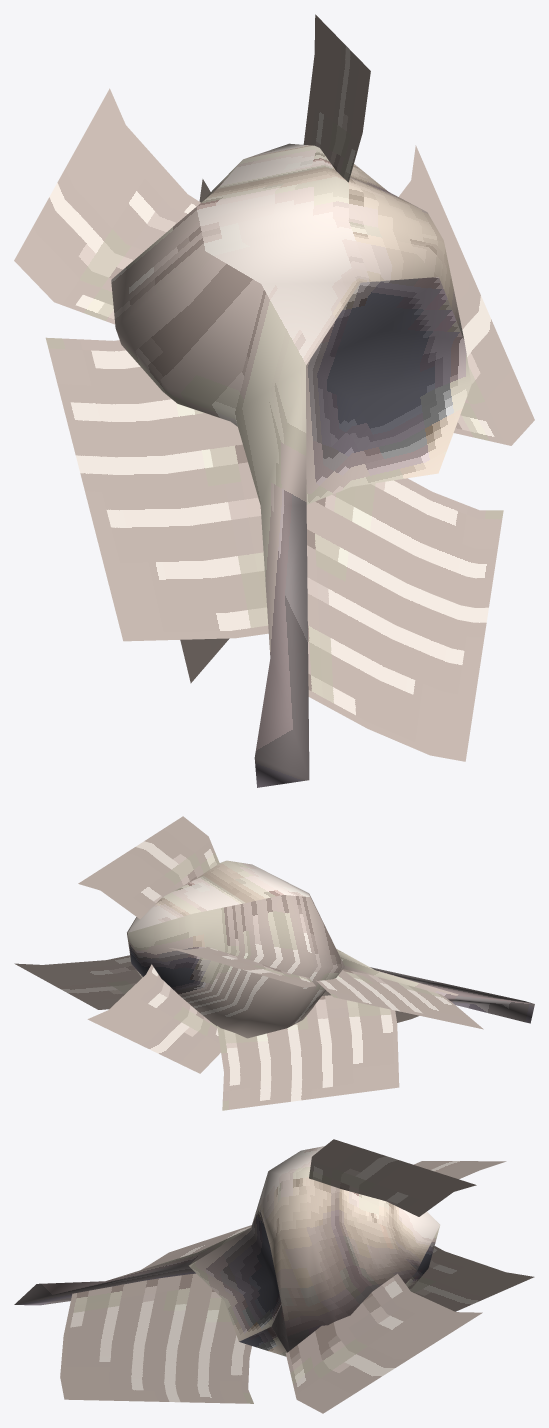
File: int_shl_hone.dae
The picture shows the model from 3 angles, top to bottom: view 1: azimuth 30°, elevation 25°; view 2: azimuth 150°, elevation 25°; view 3: azimuth 270°, elevation 25°; orthographic projection. The views are drawn at different scales.
Visible parts, largest first — view 1: int_shl_hone; view 2: int_shl_hone; view 3: int_shl_hone.
Part boxes in pixels (<box>): int_shl_hone: <box>14,14,534,787</box>; int_shl_hone: <box>14,816,534,1110</box>; int_shl_hone: <box>14,1139,534,1413</box>.
Size of the model in its own units: 14.85 by 12.71 by 20.11.
Materials: 1 (1 with a texture image).
